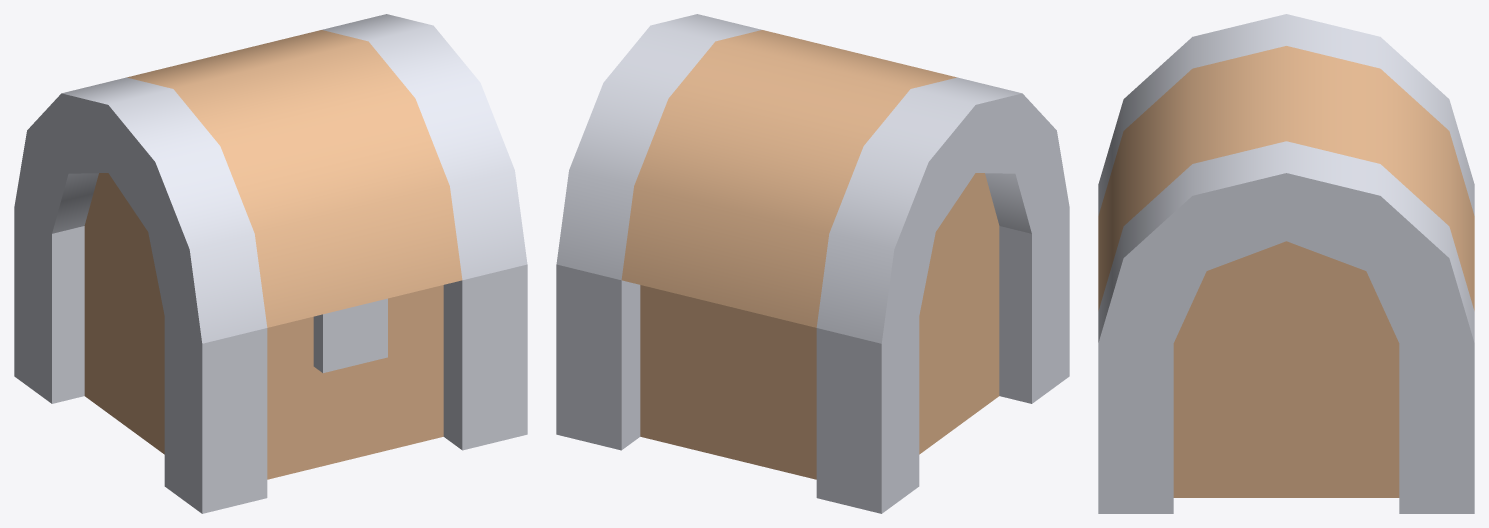
The picture shows the model from 3 angles, left to right: view 1: azimuth 30°, elevation 25°; view 2: azimuth 150°, elevation 25°; view 3: azimuth 270°, elevation 25°; orthographic projection.
Visible parts, largest first — view 1: lid, chest; view 2: lid, chest; view 3: lid, chest.
Part boxes in pixels (bbox=[...]): lid: bbox=[14, 14, 527, 343]; chest: bbox=[14, 206, 527, 513]; lid: bbox=[556, 14, 1069, 343]; chest: bbox=[556, 206, 1069, 513]; lid: bbox=[1098, 14, 1474, 343]; chest: bbox=[1098, 327, 1474, 513].
Bounding box in the file's own units: 0.5 × 0.5 × 0.5.
